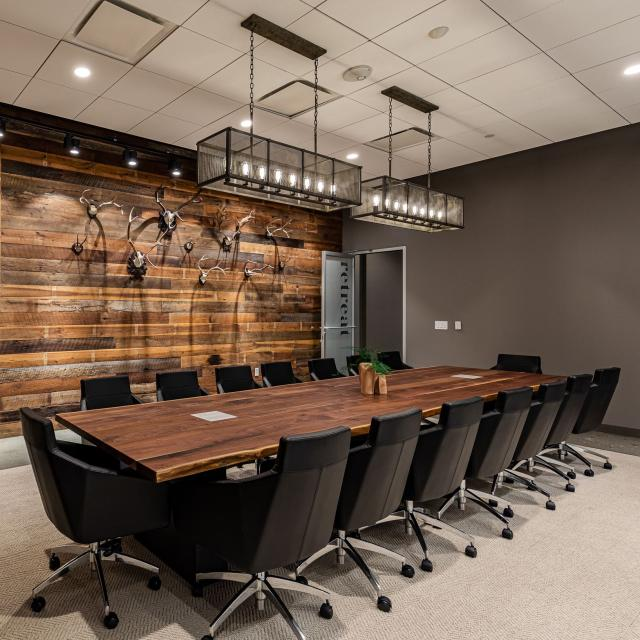chair: (182, 425, 352, 639), (19, 407, 171, 629), (286, 406, 423, 614), (357, 394, 485, 572), (437, 385, 533, 539), (490, 378, 568, 510), (528, 373, 594, 491), (560, 366, 621, 475), (155, 370, 211, 401), (215, 364, 262, 394), (260, 360, 303, 388), (489, 354, 542, 374), (307, 358, 346, 381), (376, 350, 414, 370)
